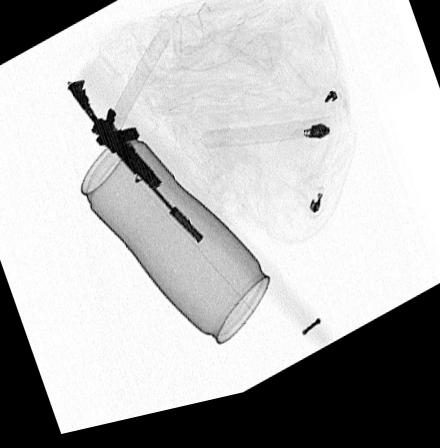Gun: (67, 83, 205, 254)
